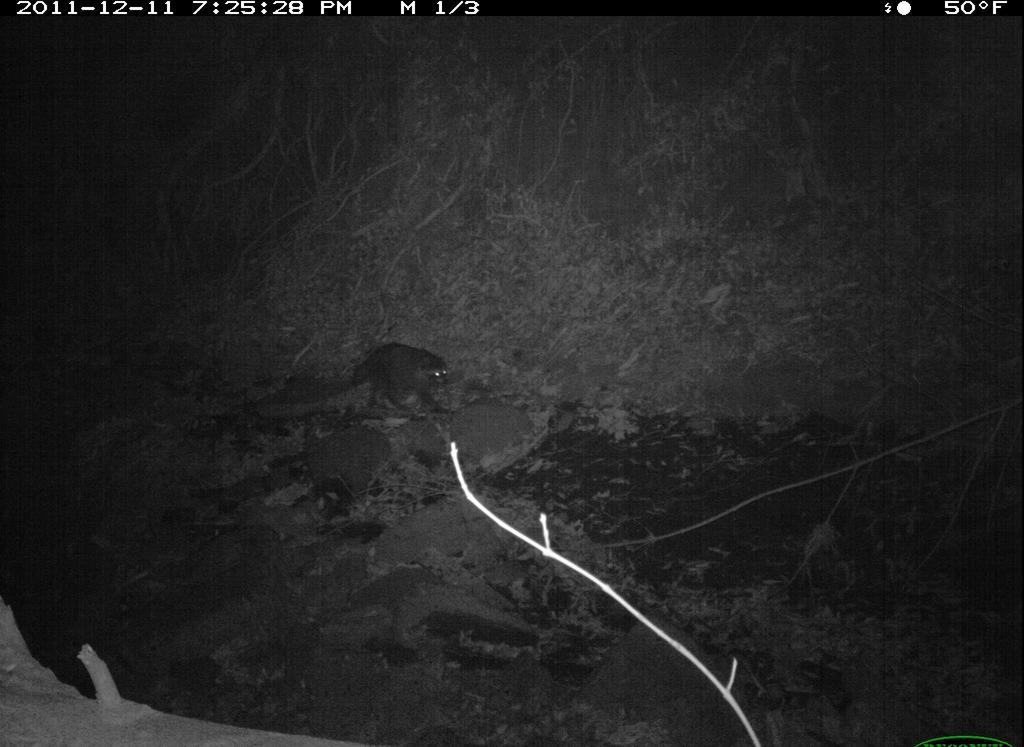raccoon: (335, 333, 461, 424)
